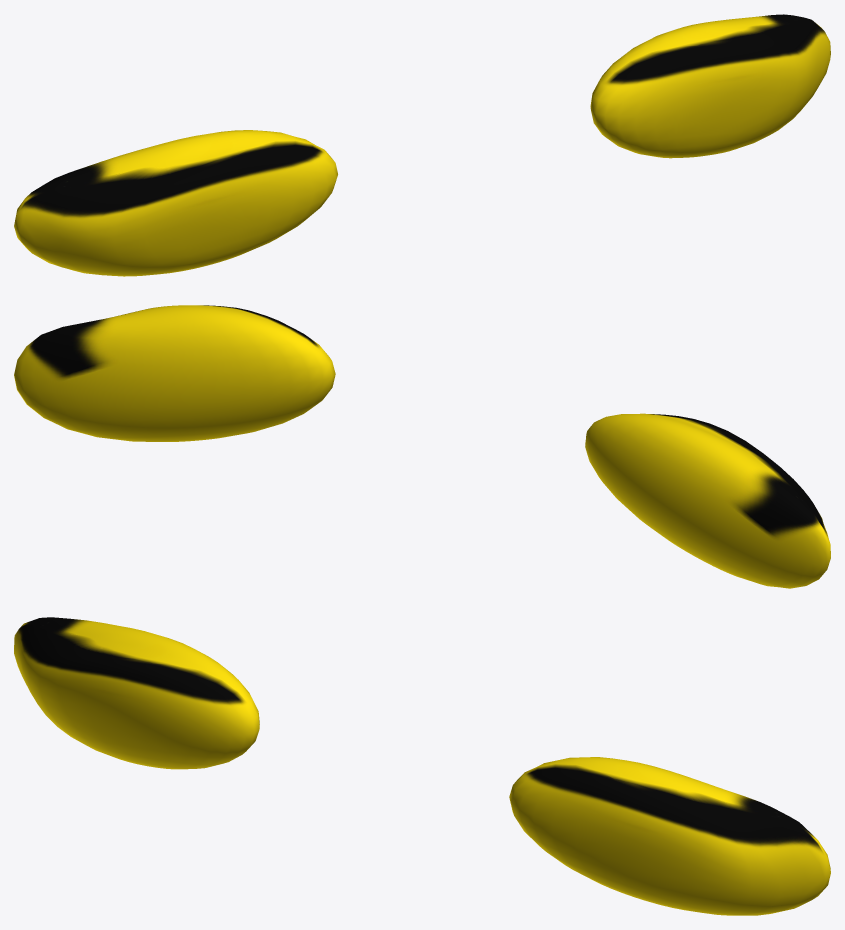
File: Zombie-Yellow.glb
3 views of the same model, one above another, from view 1: azimuth 30°, elevation 25°; view 2: azimuth 150°, elevation 25°; view 3: azimuth 330°, elevation 25° (orthographic).
Parts seen in each view (by area): view 1: Sphere.002; view 2: Sphere.002; view 3: Sphere.002.
Boxes of the visible parts, x1,y1,x2,y2 form: Sphere.002: (14, 14, 830, 276); Sphere.002: (14, 305, 830, 588); Sphere.002: (14, 617, 830, 915).
Size of the model in its own units: 0.3777 by 0.0623 by 0.0485.
Materials: 1 (1 with a texture image).
